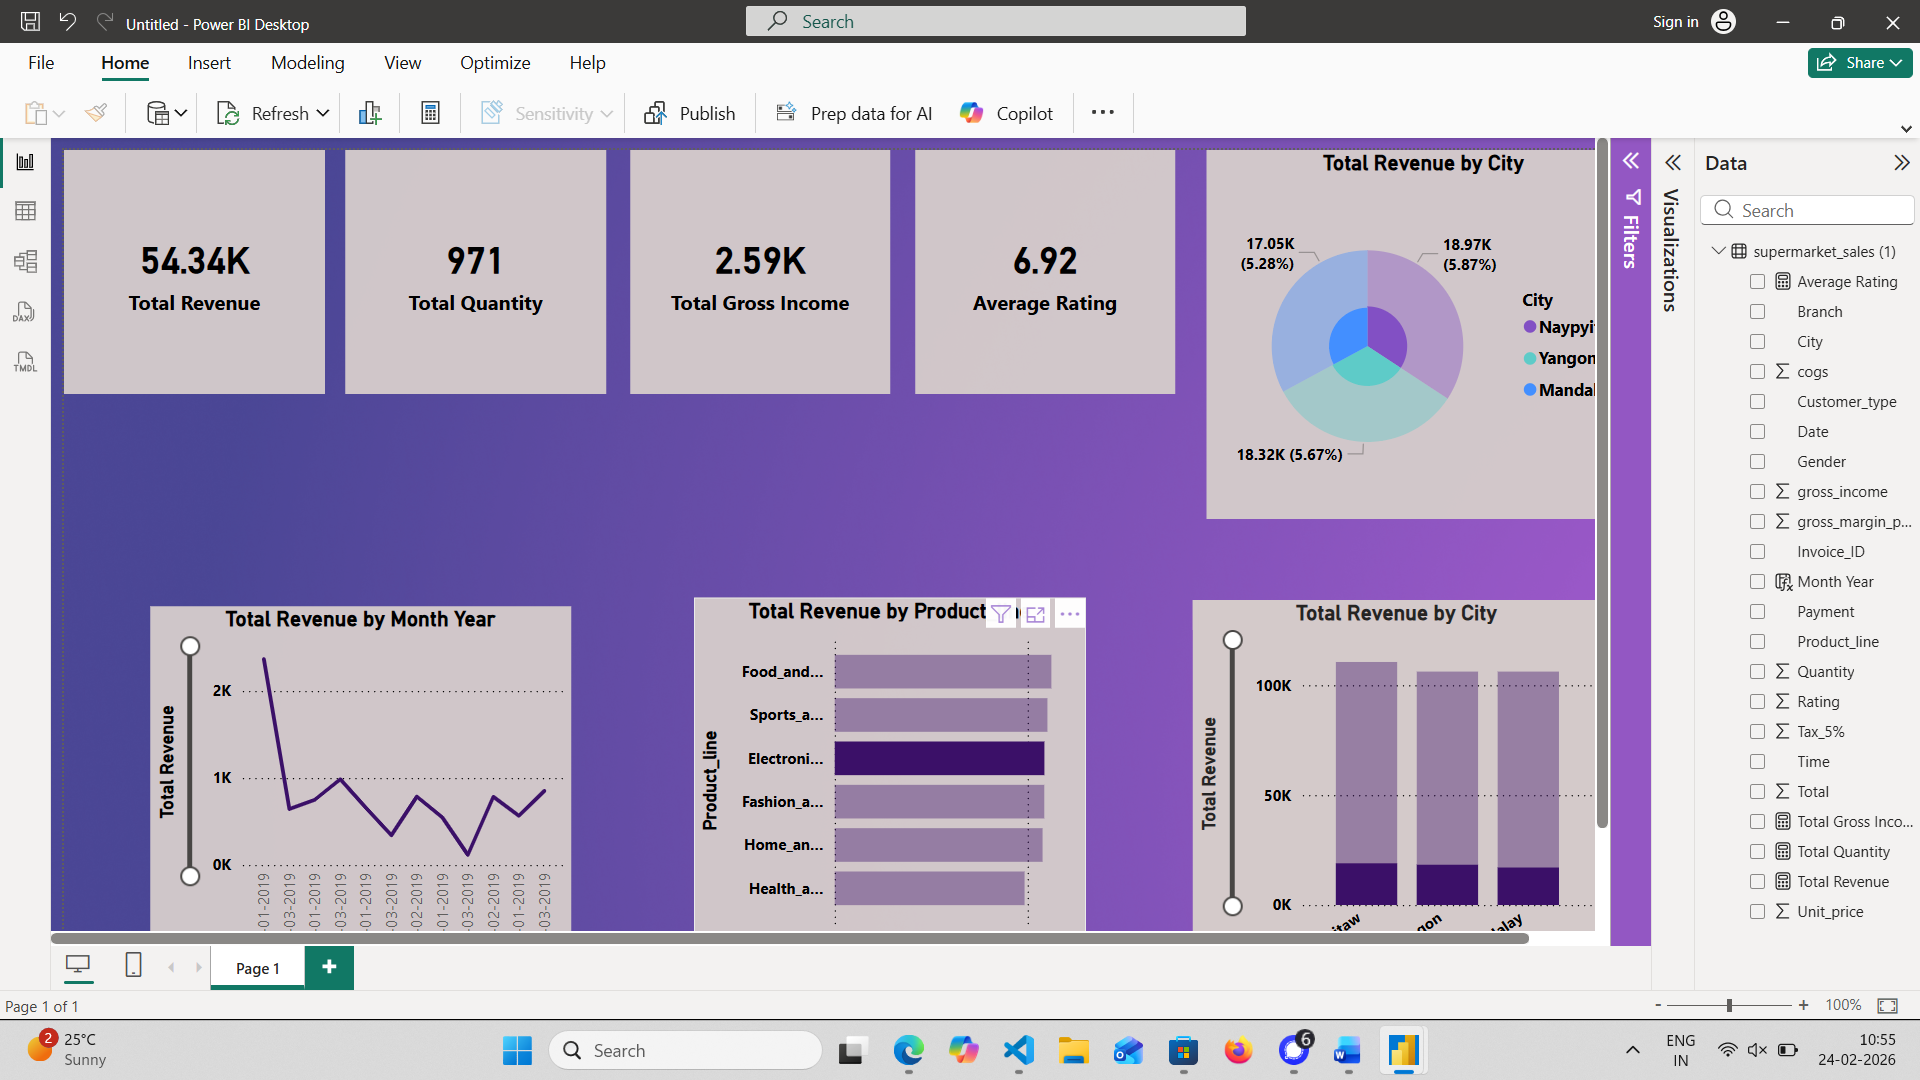

Layout of this report page (visuals, bound fields, positions):
{"tool":"powerbi","page":{"name":"Page 1","canvas":[1280,720],"ordinal":0},"visuals":[{"type":"card","fields":{"Values":["supermarket_sales (1).Total Revenue"]},"box":[0,0,208.6,194.9],"z":0},{"type":"card","fields":{"Values":["supermarket_sales (1).Total Quantity"]},"box":[225,0,208.6,194.9],"z":1000},{"type":"card","fields":{"Values":["supermarket_sales (1).Total Gross Income"]},"box":[452.8,0,208.6,194.9],"z":2000},{"type":"card","fields":{"Values":["supermarket_sales (1).Average Rating"]},"box":[680.6,0,208.6,194.9],"z":3000},{"type":"lineChart","fields":{"Category":["supermarket_sales (1).Month Year"],"Y":["supermarket_sales (1).Total Revenue"]},"box":[68.6,365,337.6,312.9],"z":4000},{"type":"clusteredBarChart","fields":{"Category":["supermarket_sales (1).Product_line"],"Y":["supermarket_sales (1).Total Revenue"]},"box":[503.6,358.1,314.2,326.6],"z":5000},{"type":"columnChart","fields":{"Category":["supermarket_sales (1).City"],"Y":["supermarket_sales (1).Total Revenue"]},"box":[902.9,359.5,326.6,325.2],"z":5002},{"type":"pieChart","fields":{"Y":["supermarket_sales (1).Total Revenue"],"Category":["supermarket_sales (1).City"]},"box":[913.9,0,348.5,295],"z":5003}]}

Visuals, with their boxes on the page's 1280x720 design canvas (x1, y1, x2, y2). These are canvas units, not pixel positions in the 1920x1080 screenshot, which may show the page scaled, cropped or inside an application window:
card - supermarket_sales (1).Total Revenue: 0:0:209:195
card - supermarket_sales (1).Total Quantity: 225:0:434:195
card - supermarket_sales (1).Total Gross Income: 453:0:661:195
card - supermarket_sales (1).Average Rating: 681:0:889:195
lineChart - supermarket_sales (1).Month Year x supermarket_sales (1).Total Revenue: 69:365:406:678
clusteredBarChart - supermarket_sales (1).Product_line x supermarket_sales (1).Total Revenue: 504:358:818:685
columnChart - supermarket_sales (1).City x supermarket_sales (1).Total Revenue: 903:360:1230:685
pieChart - supermarket_sales (1).Total Revenue x supermarket_sales (1).City: 914:0:1262:295
